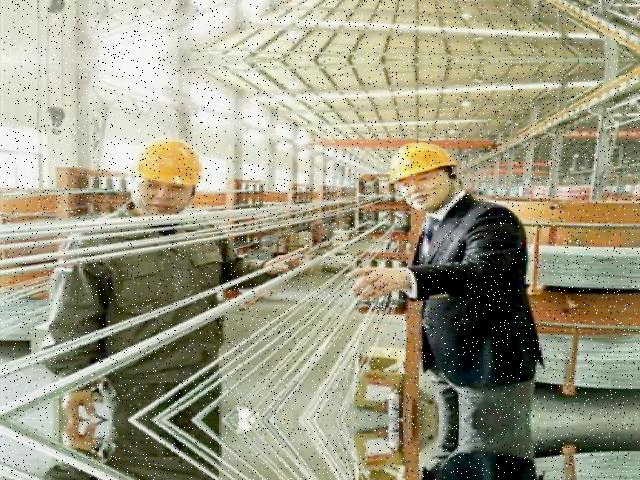Helmet: (125, 133, 210, 188), (385, 136, 464, 190)
